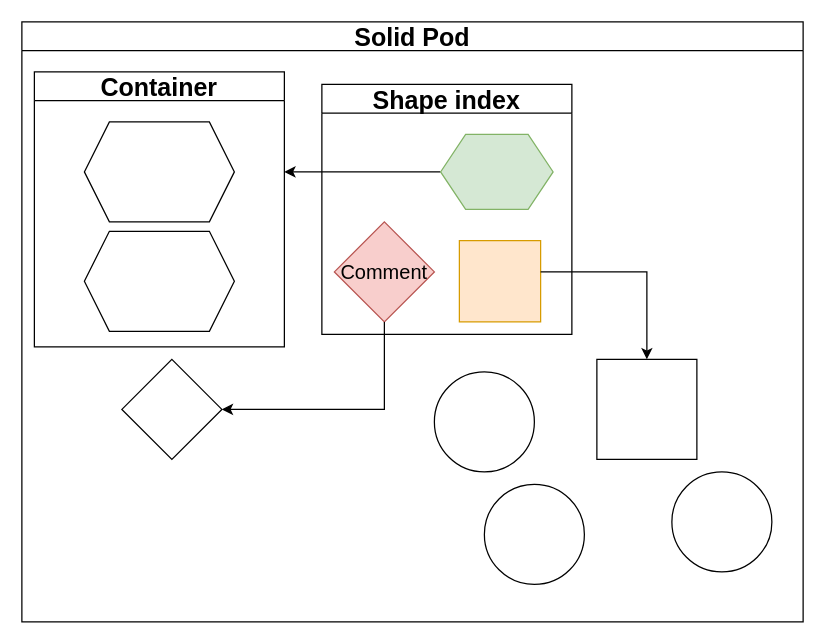
The diagram is 825 pixels wide and 644 high, and some of its shapes have lost their labels. Each missing label, with the centre of its shape:
"Post" belongs at point 496,171.
"Profile" belongs at point 499,280.
